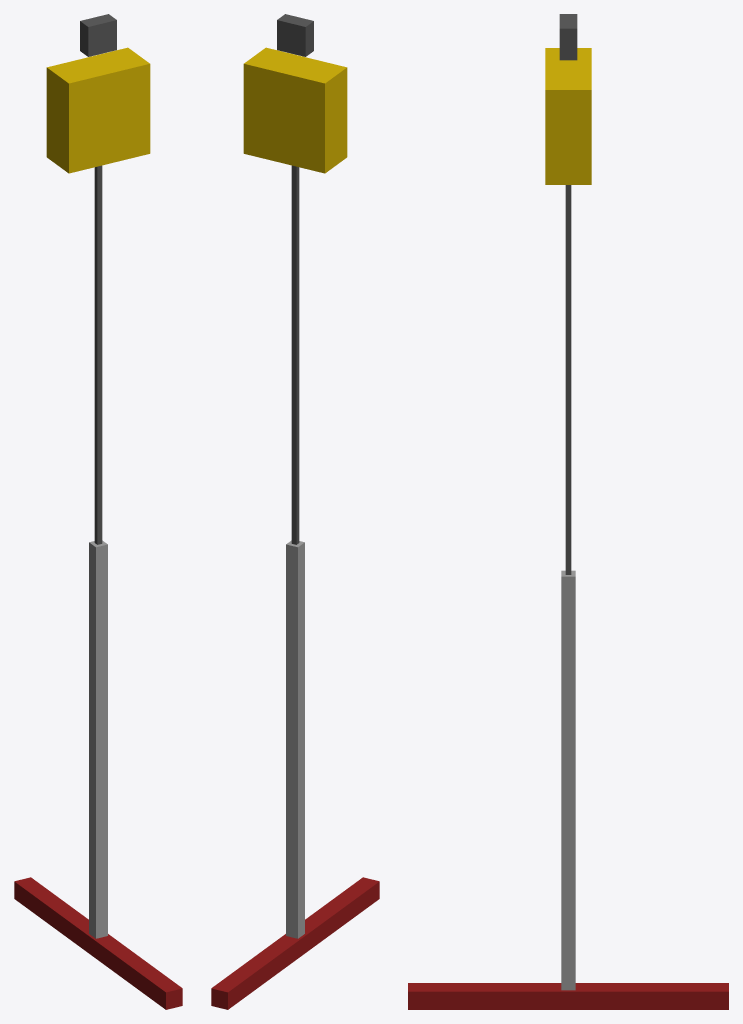
Rendered from tbar_hanger.obj.
The picture shows the model from 3 angles, left to right: view 1: azimuth 30°, elevation 25°; view 2: azimuth 150°, elevation 25°; view 3: azimuth 270°, elevation 25°; orthographic projection. The views are drawn at different scales.
Size of the model in its own units: 0.34 by 3.73 by 1.1.
